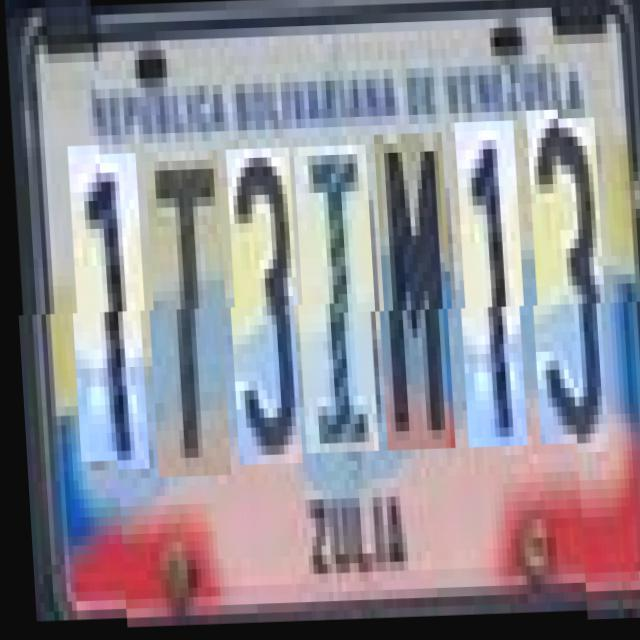1: (66, 154, 148, 472), (452, 124, 526, 450)
3: (524, 113, 608, 449), (224, 150, 302, 467)
I: (292, 147, 378, 455)
M: (372, 136, 454, 453)
T: (143, 152, 230, 478)
